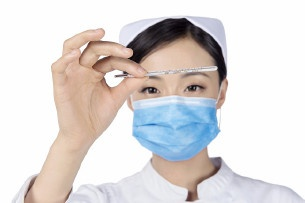Mask: (126, 66, 220, 161)
